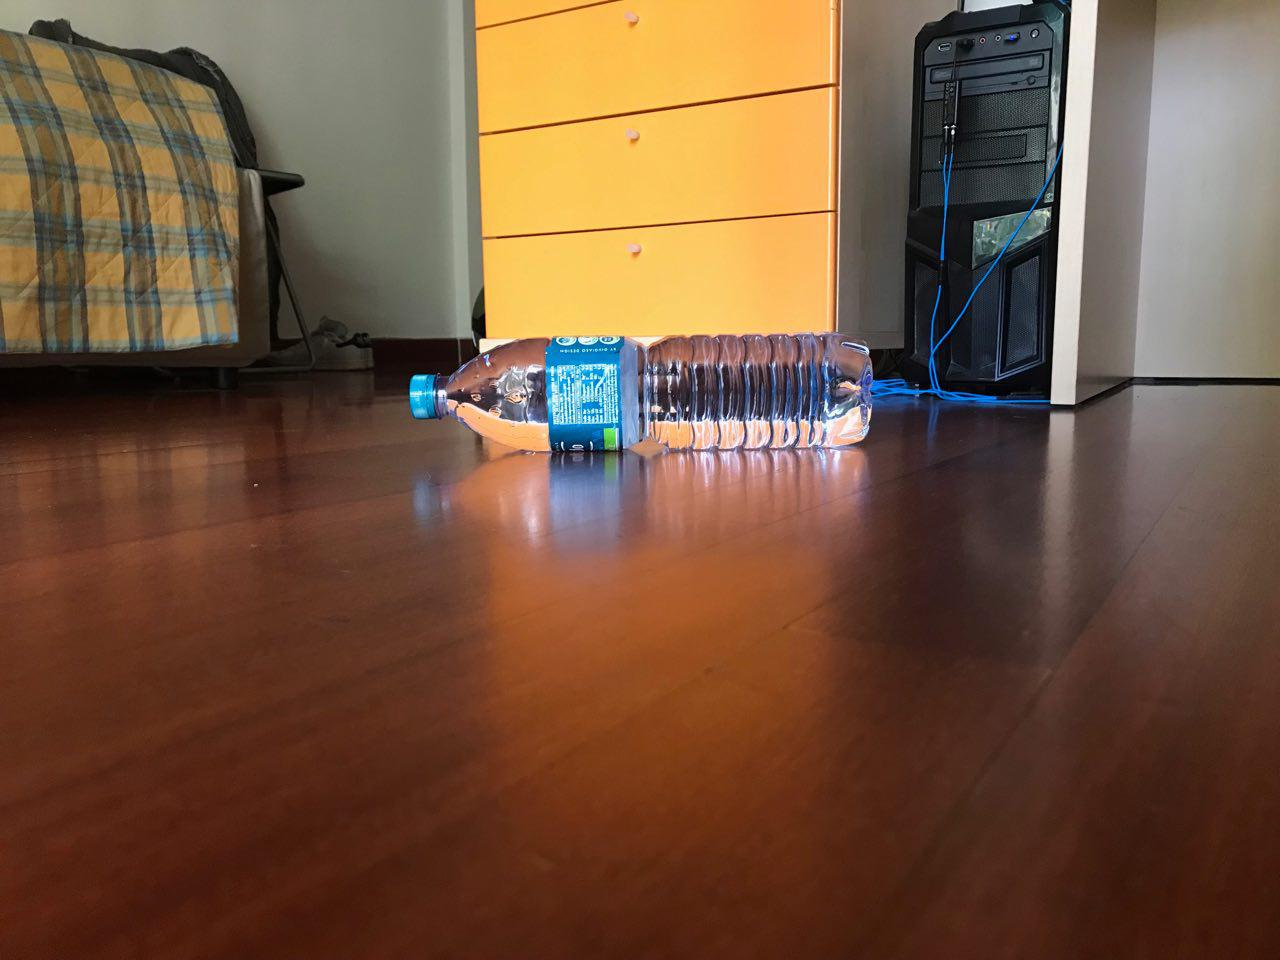san_bernardo: (407, 332, 875, 453)
